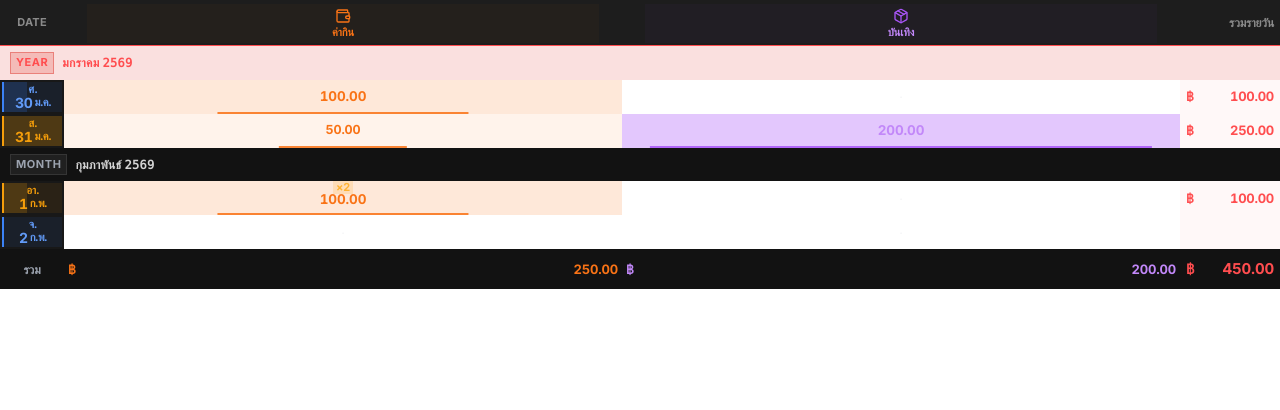
Test: HorizontalLedgerView — tooltip › hovering a cell lists its rows and, for several, their total
Step 1. Hover over the cell "×2 100.00" → (343, 198), box [64,181,622,215]
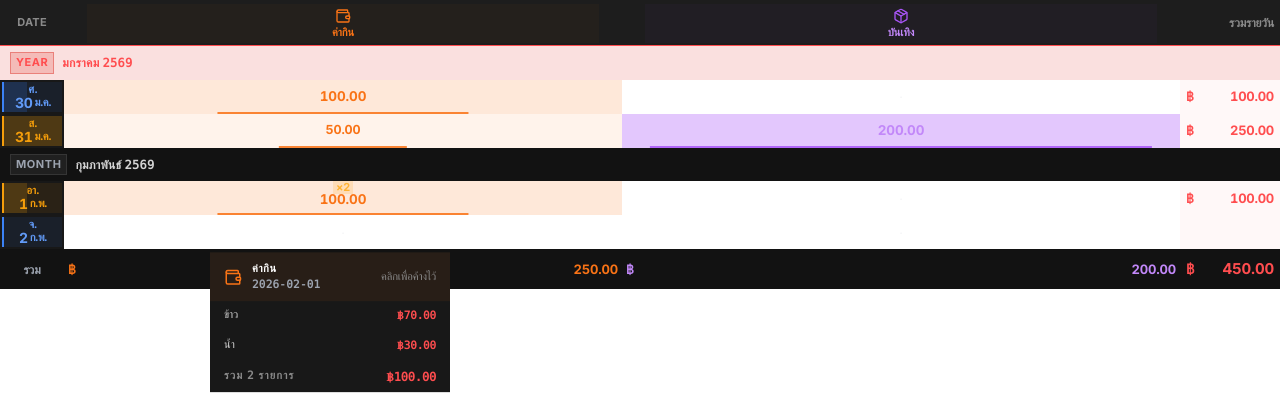
Expected: the element with class "fixed" shows "ค่ากิน", [252,261,277,275]
Expected: the element with class "fixed" shows "2026-02-01", [252,277,320,291]
Expected: the element with class "fixed" shows "ข้าว", [224,308,238,322]
